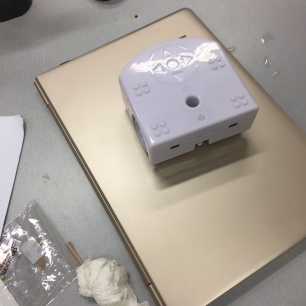thymio: (111, 34, 262, 165)
